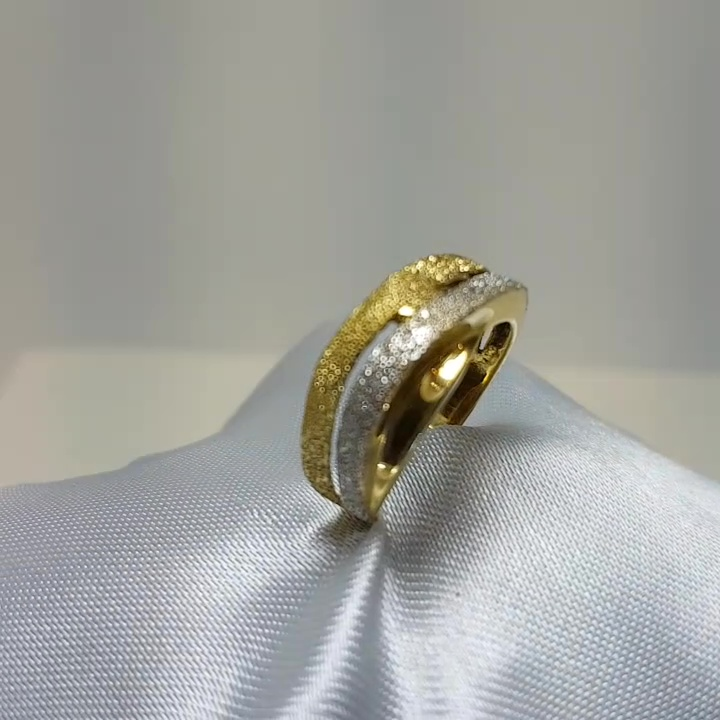Ring 5: (273, 240, 543, 557)
